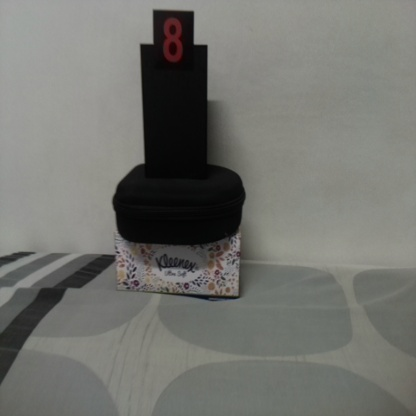id_8: (154, 11, 194, 74)
